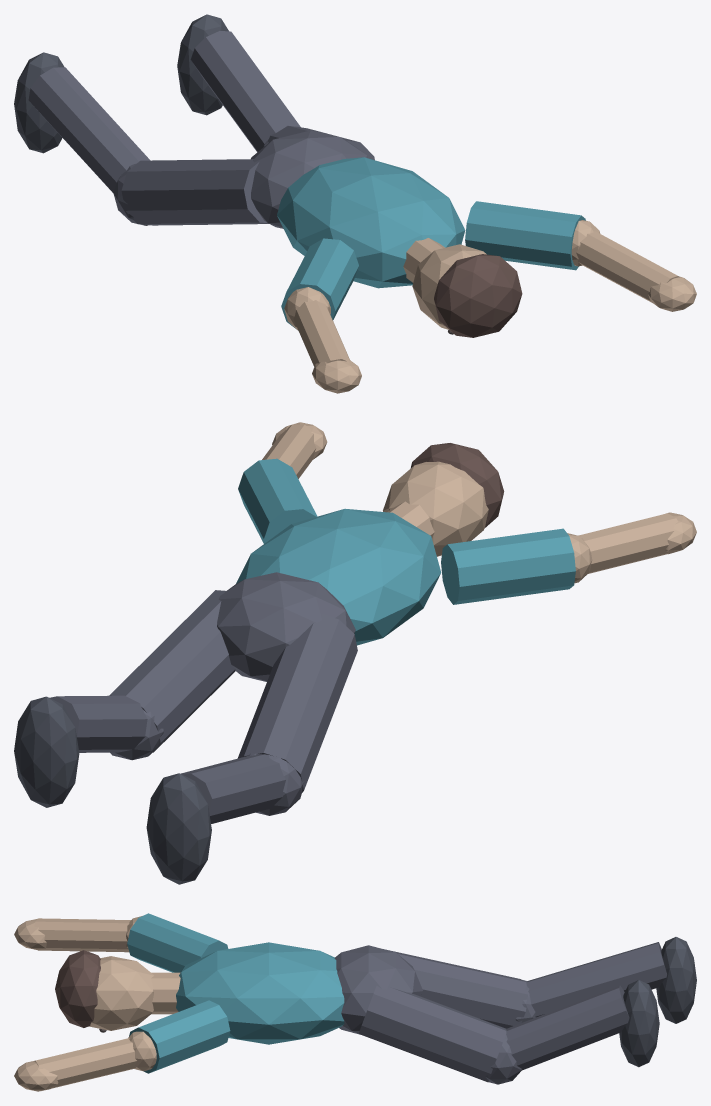
3 renders of one model, top to bottom at view 1: azimuth 30°, elevation 25°; view 2: azimuth 150°, elevation 25°; view 3: azimuth 270°, elevation 25°, orthographic. The views are drawn at different scales.
Visible parts, largest first — view 1: world; view 2: world; view 3: world.
Part boxes in pixels (bbox=[...]): world: bbox=[14, 14, 696, 393]; world: bbox=[14, 422, 696, 884]; world: bbox=[14, 913, 696, 1091].
Size of the model in its own units: 1.17 by 0.3942 by 2.12.
